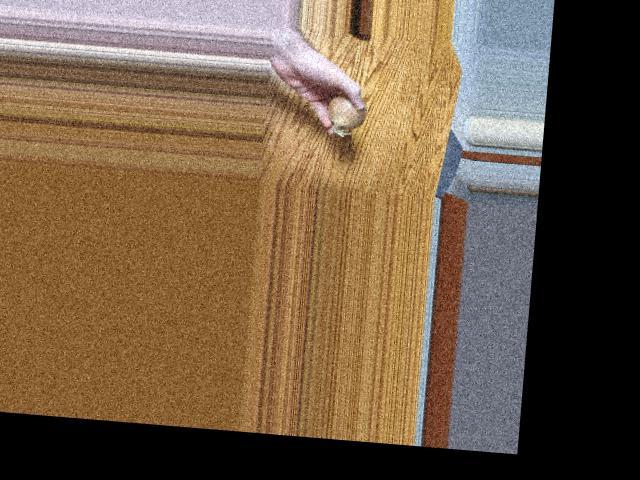onion: (328, 91, 368, 131)
